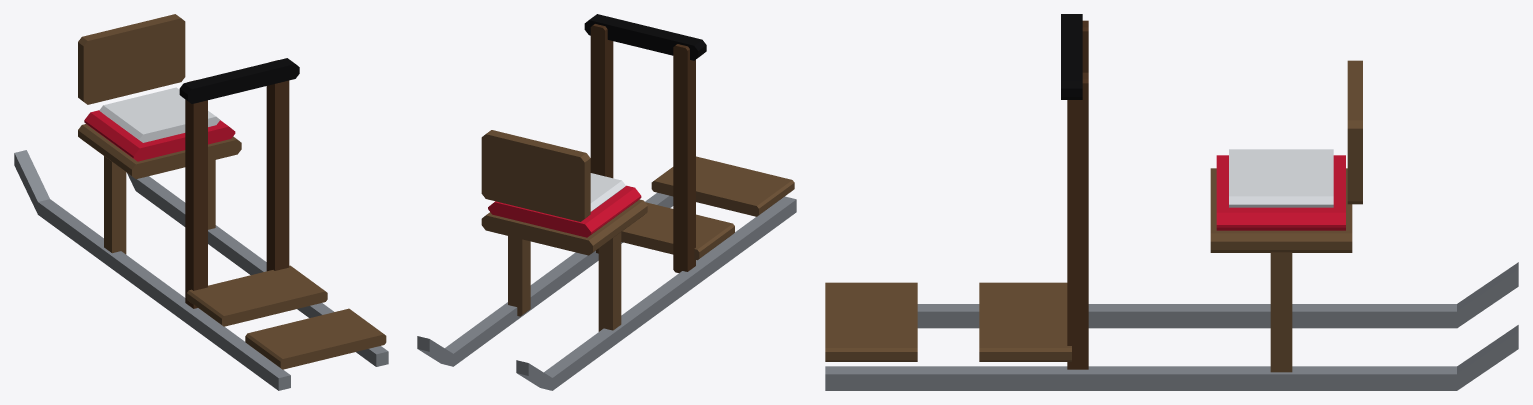
File: kicksled_lo.glb
The picture shows the model from 3 angles, left to right: view 1: azimuth 30°, elevation 25°; view 2: azimuth 150°, elevation 25°; view 3: azimuth 270°, elevation 25°; orthographic projection. The views are drawn at different scales.
Visible parts, largest first — view 1: body.006; view 2: body.006; view 3: body.006.
Boxes of the visible parts, x1,y1,x2,y2 form: body.006: (14, 14, 388, 390); body.006: (417, 14, 796, 390); body.006: (825, 14, 1518, 390).
Bounding box in the file's own units: 0.55 × 1.1 × 2.25.
